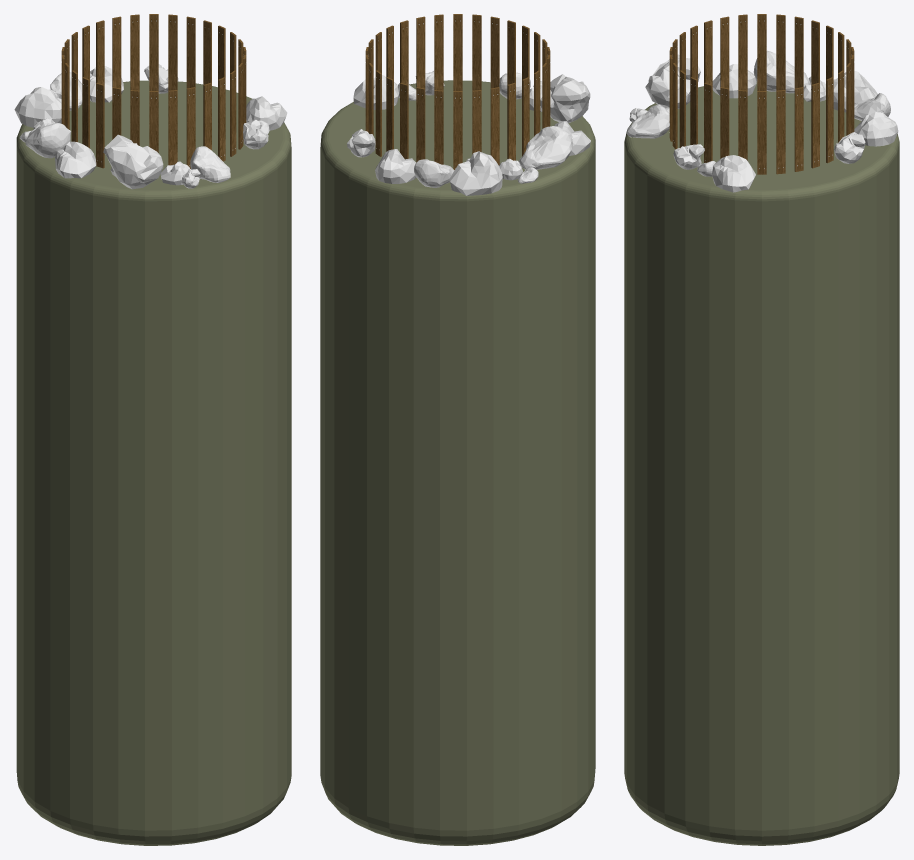
Rendered from arena.fbx.
The picture shows the model from 3 angles, left to right: view 1: azimuth 30°, elevation 25°; view 2: azimuth 150°, elevation 25°; view 3: azimuth 270°, elevation 25°; orthographic projection.
Parts seen in each view (by area): view 1: walec, Stone3.004, Stone.001, Stone.005, Stone2, Stone2.002, Stone.002, fence.125, fence.131, fence.119, fence.017, fence.041 (+13 smaller); view 2: walec, Stone.001, Stone2, Stone3.004, Stone.004, Stone2.001, fence.065, fence.059, fence.071, fence.155, fence.149, fence.143 (+14 smaller); view 3: walec, Stone.002, Stone3.004, Stone.004, Stone2.002, Stone2, fence.101, fence.107, fence.095, fence.005, Stone.001, fence.011 (+16 smaller).
Boxes of the visible parts, bbox=[...] form: walec: bbox=[16, 80, 291, 845]; Stone3.004: bbox=[103, 134, 163, 189]; Stone.001: bbox=[14, 87, 61, 127]; Stone.005: bbox=[55, 141, 96, 178]; Stone2: bbox=[25, 123, 70, 158]; Stone2.002: bbox=[190, 146, 230, 182]; Stone.002: bbox=[246, 96, 287, 130]; fence.125: bbox=[149, 14, 158, 90]; fence.131: bbox=[130, 14, 139, 90]; fence.119: bbox=[168, 14, 177, 90]; fence.017: bbox=[96, 82, 104, 168]; fence.041: bbox=[168, 90, 177, 165]; walec: bbox=[320, 80, 595, 845]; Stone.001: bbox=[449, 151, 502, 195]; Stone2: bbox=[518, 126, 572, 169]; Stone3.004: bbox=[540, 74, 590, 122]; Stone.004: bbox=[375, 149, 416, 183]; Stone2.001: bbox=[414, 159, 454, 187]; fence.065: bbox=[453, 14, 462, 90]; fence.059: bbox=[472, 14, 481, 90]; fence.071: bbox=[434, 14, 443, 90]; fence.155: bbox=[453, 91, 462, 169]; fence.149: bbox=[434, 90, 443, 164]; fence.143: bbox=[416, 87, 425, 162]; walec: bbox=[624, 82, 899, 845]; Stone.002: bbox=[712, 155, 755, 192]; Stone3.004: bbox=[645, 54, 700, 108]; Stone.004: bbox=[854, 112, 898, 146]; Stone2.002: bbox=[627, 106, 669, 138]; Stone2: bbox=[753, 50, 810, 93]; fence.101: bbox=[776, 90, 785, 174]; fence.107: bbox=[794, 87, 803, 171]; fence.095: bbox=[757, 91, 766, 174]; fence.005: bbox=[757, 14, 766, 90]; Stone.001: bbox=[825, 71, 877, 112]; fence.011: bbox=[738, 14, 747, 90].
Size of the model in its own units: 604 by 1798 by 604.
Materials: 3 (1 with a texture image).
